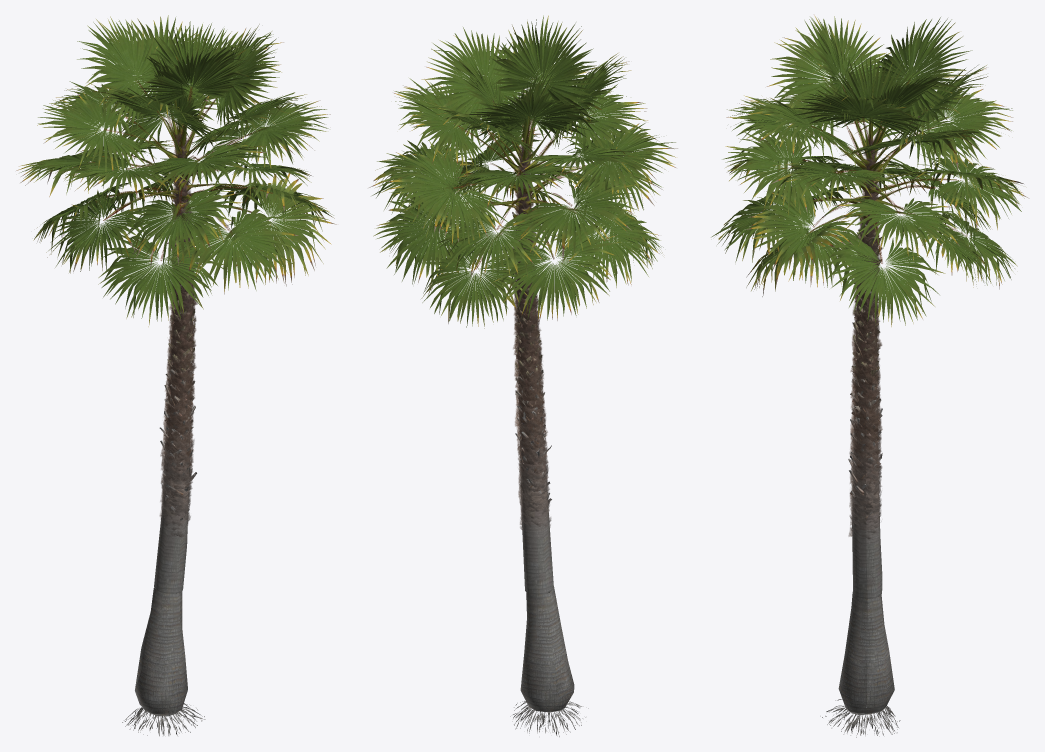
The model's file is palm_fan_a.glb.
3 views of the same model, side by side, from view 1: azimuth 30°, elevation 25°; view 2: azimuth 150°, elevation 25°; view 3: azimuth 270°, elevation 25° (orthographic). The views are drawn at different scales.
Parts seen in each view (by area): view 1: Washingtonia_robusta_HD_V2_Wahs crownshaft_0; view 2: Washingtonia_robusta_HD_V2_Wahs crownshaft_0; view 3: Washingtonia_robusta_HD_V2_Wahs crownshaft_0.
Boxes of the visible parts, x1,y1,x2,y2 form: Washingtonia_robusta_HD_V2_Wahs crownshaft_0: (16,15,336,736); Washingtonia_robusta_HD_V2_Wahs crownshaft_0: (369,15,677,736); Washingtonia_robusta_HD_V2_Wahs crownshaft_0: (711,15,1029,737).
Size of the model in its own units: 3.86 by 9.44 by 3.86.
22 materials, 22 textured.
